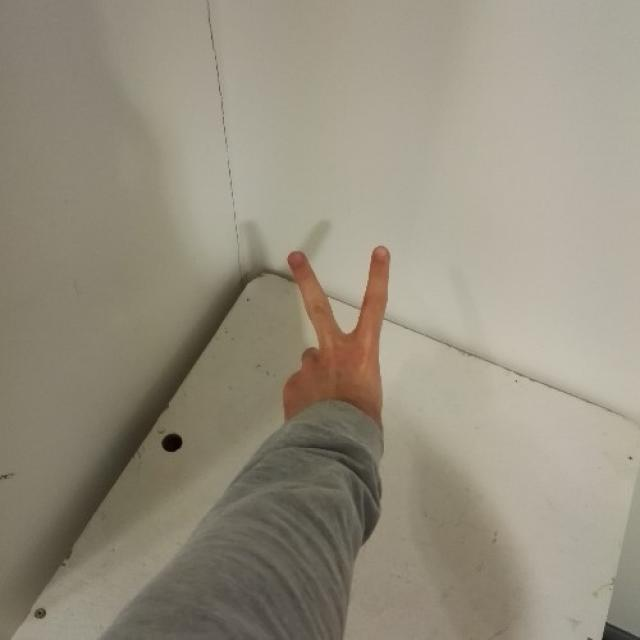scissors: (284, 246, 391, 414)
